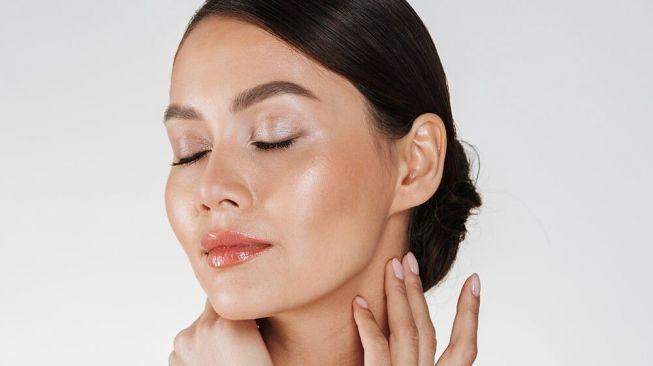Oily-Skin: (269, 155, 367, 244), (166, 35, 245, 91), (207, 273, 261, 308), (166, 173, 195, 231), (199, 153, 225, 201)
